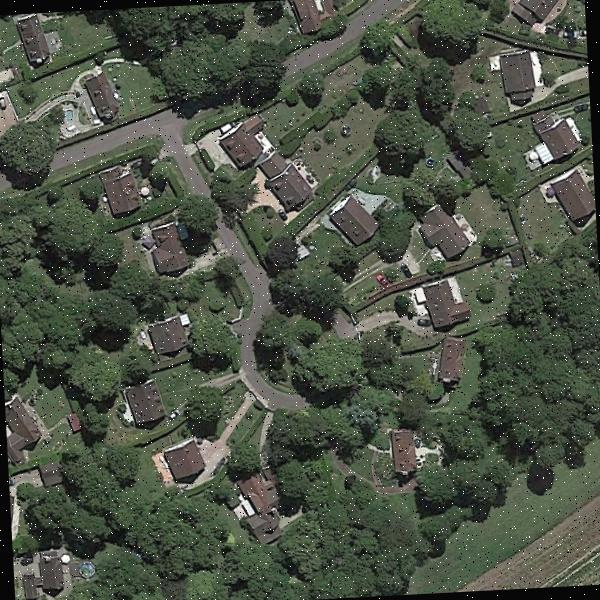Buildings: (261, 163, 313, 208), (244, 471, 278, 539), (216, 114, 266, 160), (5, 392, 38, 458), (416, 215, 466, 255), (418, 285, 472, 322), (148, 219, 182, 275), (22, 556, 69, 596), (16, 13, 49, 60), (554, 178, 594, 215), (506, 49, 535, 100), (124, 384, 163, 421), (286, 0, 331, 31), (104, 169, 138, 209), (532, 120, 572, 154), (79, 80, 120, 113), (334, 204, 376, 236), (514, 0, 568, 24), (441, 332, 465, 384), (152, 321, 182, 354), (168, 447, 194, 478), (395, 436, 414, 468), (42, 468, 58, 482)
